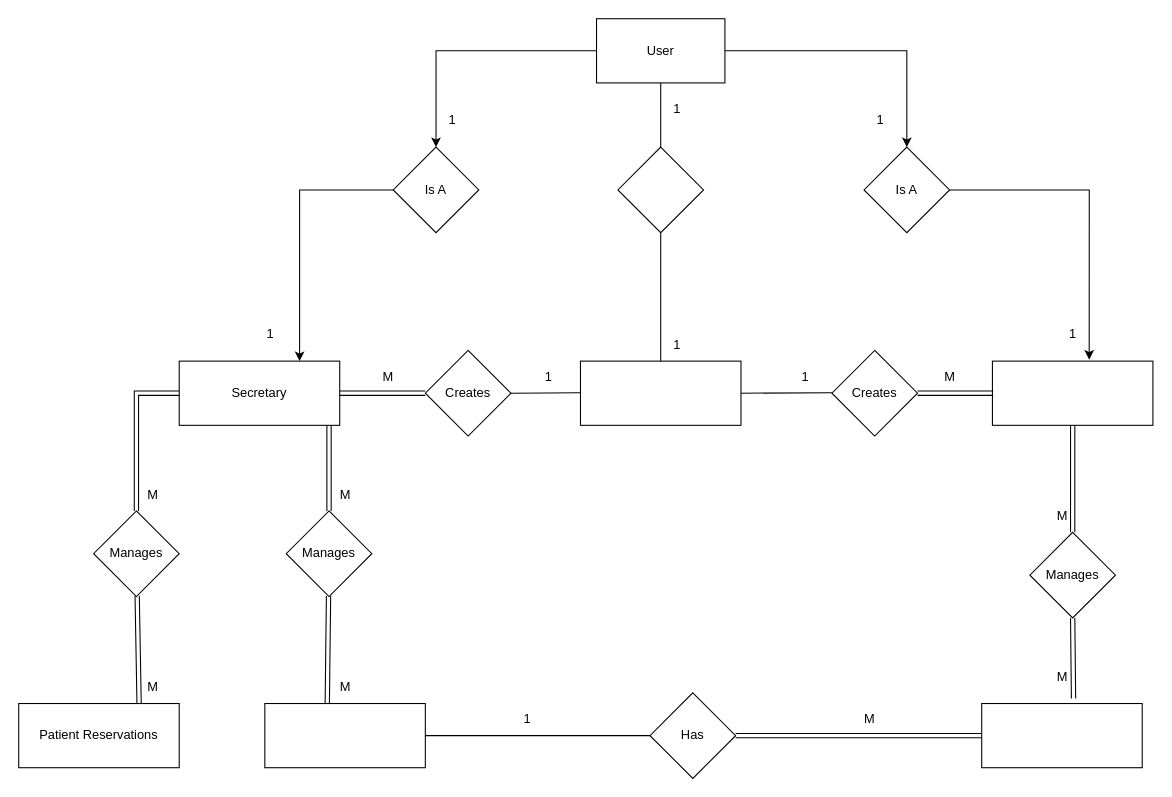
Some shapes in this 1172 by 797 pixel diagram are drawn without their labels. The centre of each missing label's shape, as x and y in pixels:
Admin: point (660, 392)
Doctor: point (1072, 392)
Is An: point (660, 189)
Patient Profile: point (344, 735)
Patient Visits: point (1061, 735)
